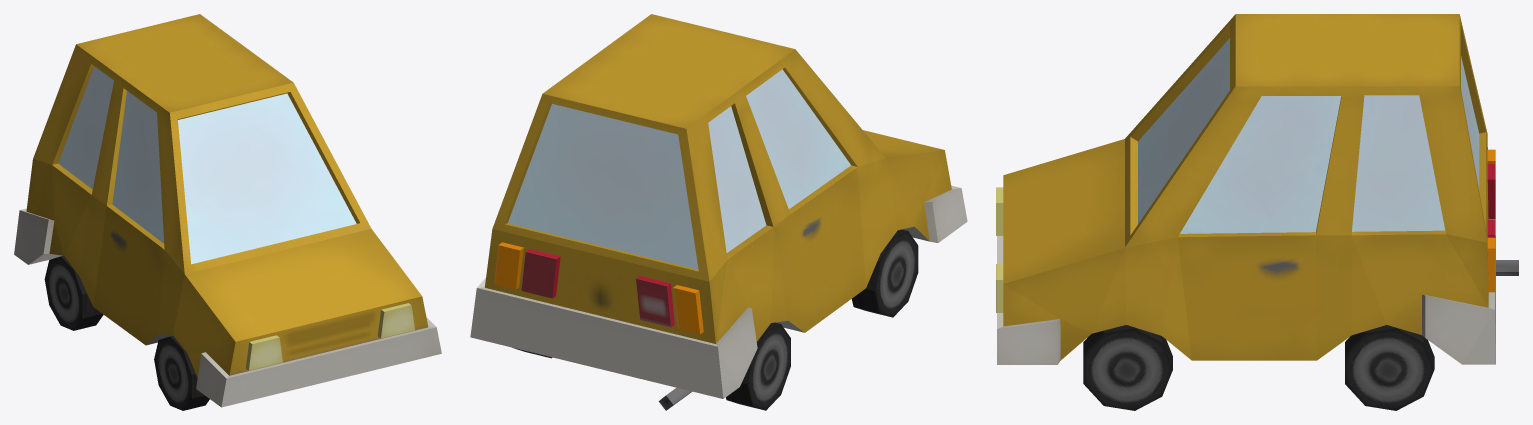
Rendered from car_yellow small.FBX.
3 views of the same model, side by side, from view 1: azimuth 30°, elevation 25°; view 2: azimuth 150°, elevation 25°; view 3: azimuth 270°, elevation 25° (orthographic). The views are drawn at different scales.
Parts seen in each view (by area): view 1: CarB_020; view 2: CarB_020; view 3: CarB_020.
Part boxes in pixels (x1,y1,x2,y2): CarB_020: (14, 14, 441, 410); CarB_020: (470, 14, 967, 410); CarB_020: (996, 14, 1518, 410).
Size of the model in its own units: 103 by 112 by 177.
